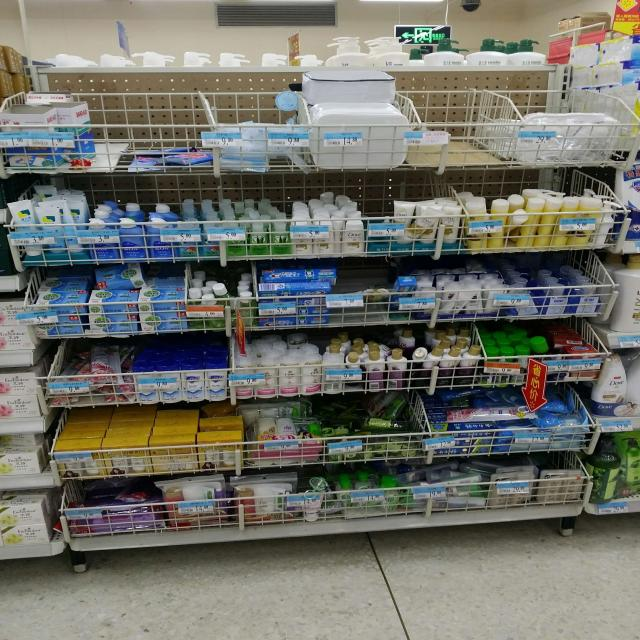void: (418, 93, 507, 163), (337, 276, 358, 316)
